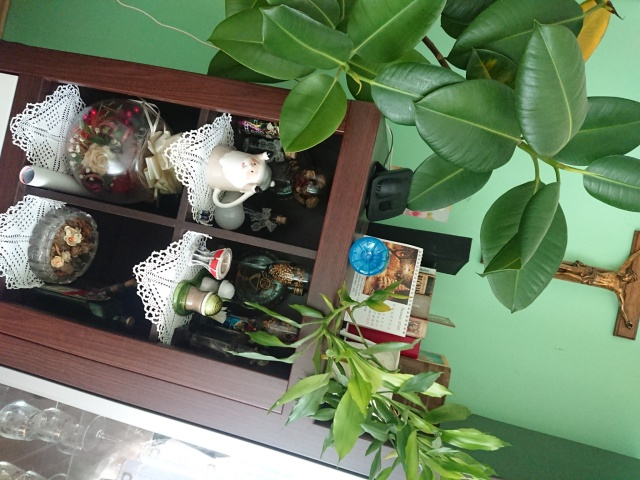Vindi Iso Sport Forest Strawberries 500mL: (346, 235, 390, 276)
